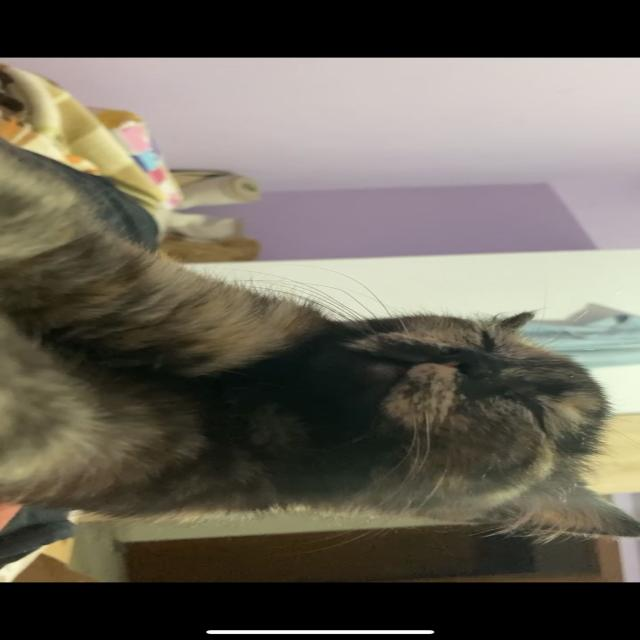authorized: (1, 136, 638, 546)
